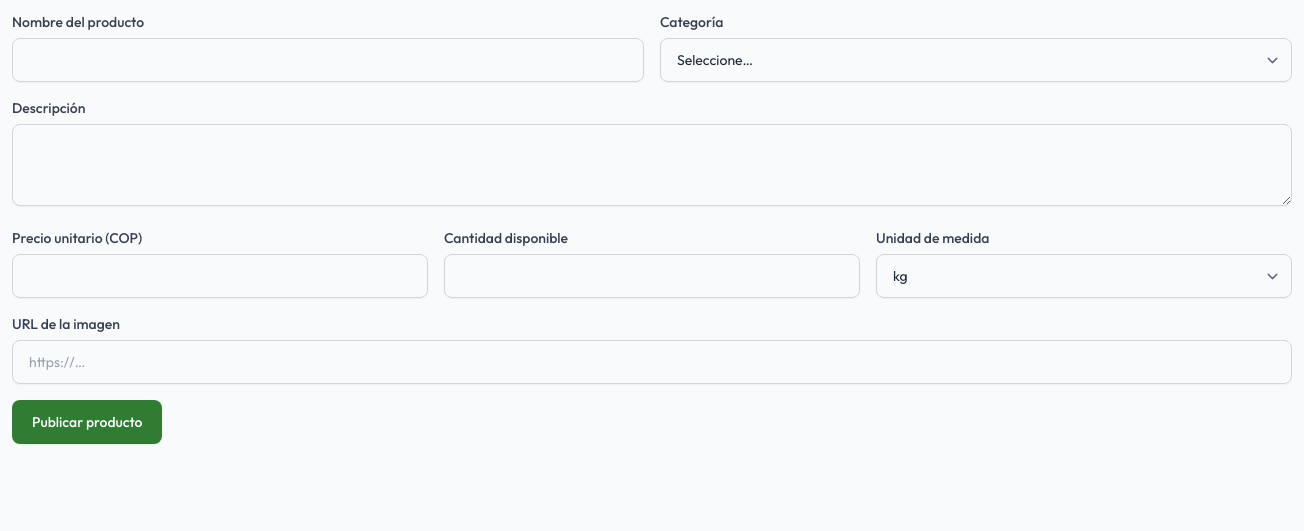
Test: ProductForm › RTL-08 si el servidor rechaza, muestra el mensaje del servidor
The width and height of the screenshot is (1304, 531).
In the field labelled "Nombre del producto": (328, 60) [12,38,644,82], type "Café especial"
Select "Café" in the dropdown labelled "Categoría": (976, 60) [660,38,1292,82]
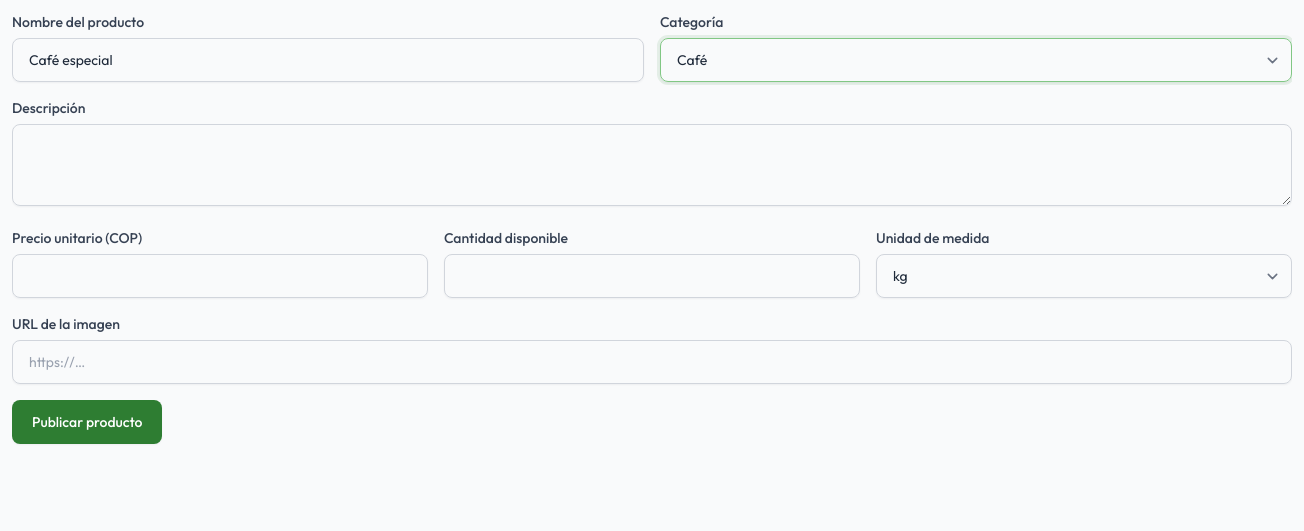
In the text box labelled "Descripción": (652, 165) [12,124,1292,206], type "Café de altura, proceso lavado"
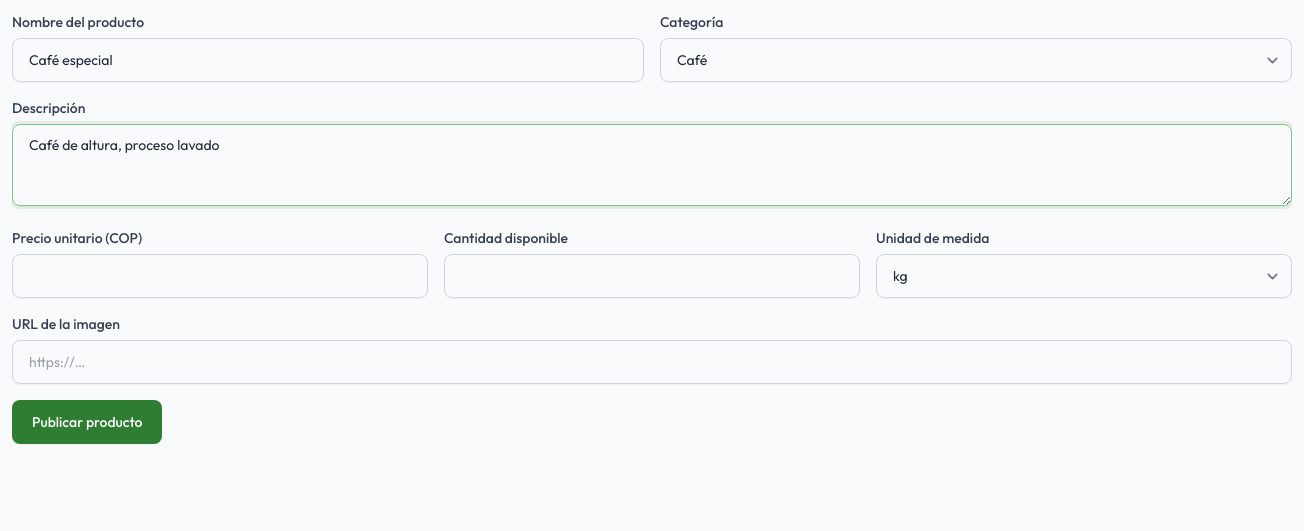
In the field labelled "Precio unitario (COP)": (220, 276) [12,254,428,298], type "18000"
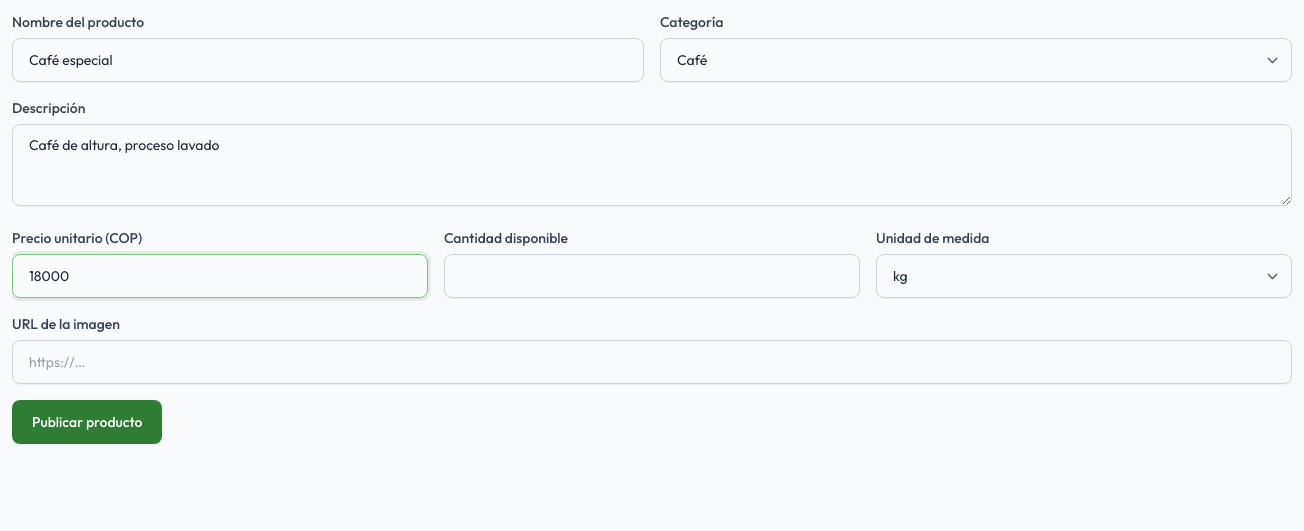
In the field labelled "Cantidad disponible": (652, 276) [444,254,860,298], type "120"
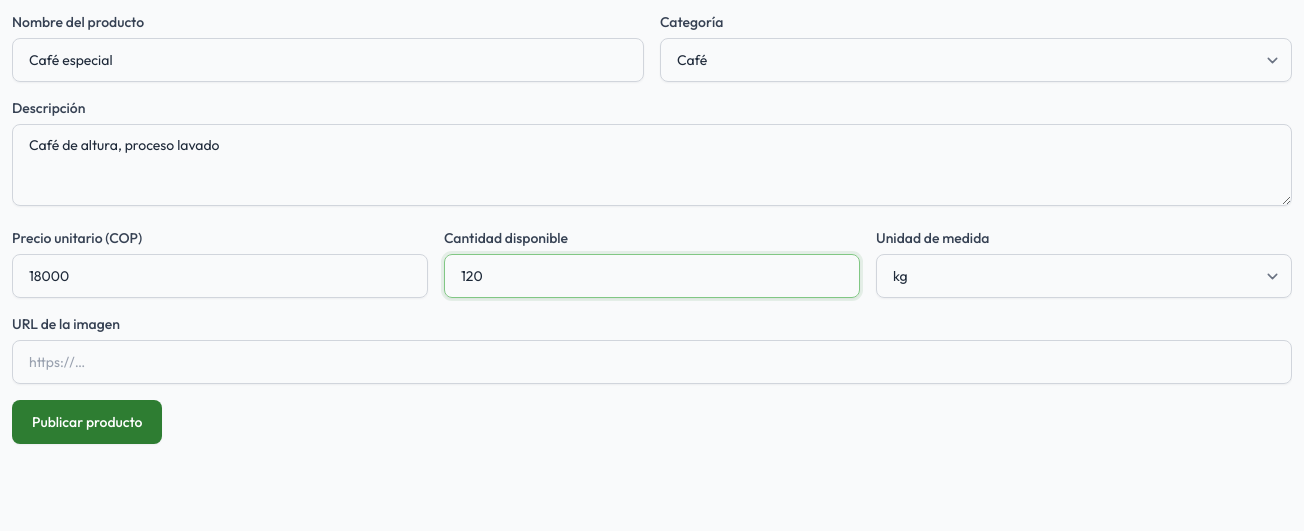
In the field labelled "URL de la imagen": (652, 362) [12,340,1292,384], type "/productos/cafe.svg"
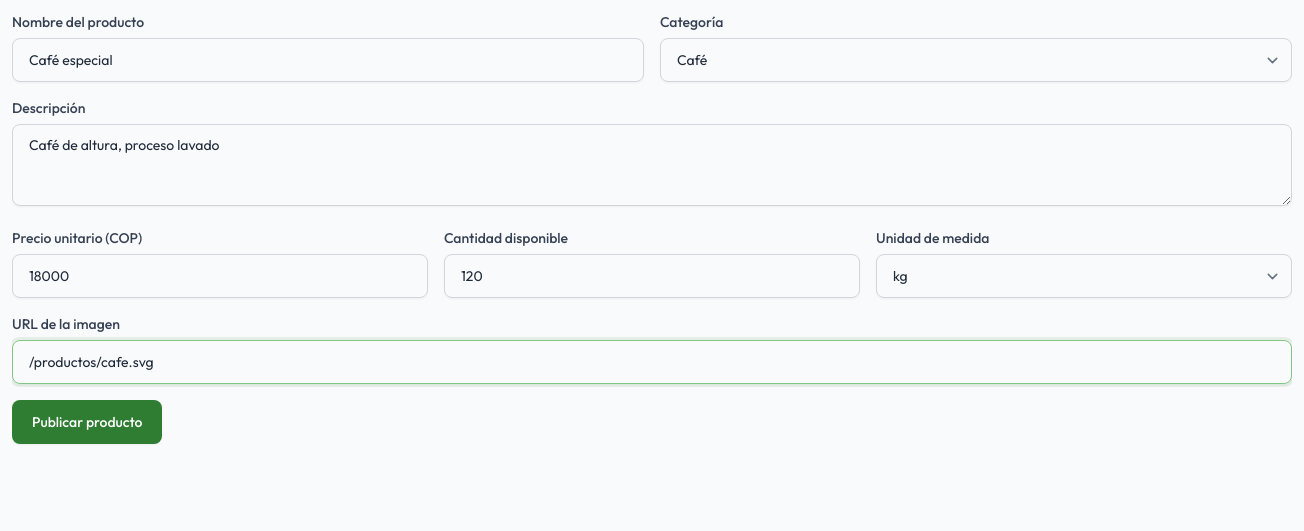
Click the button "Publicar producto": (87, 422) [12,400,162,444]
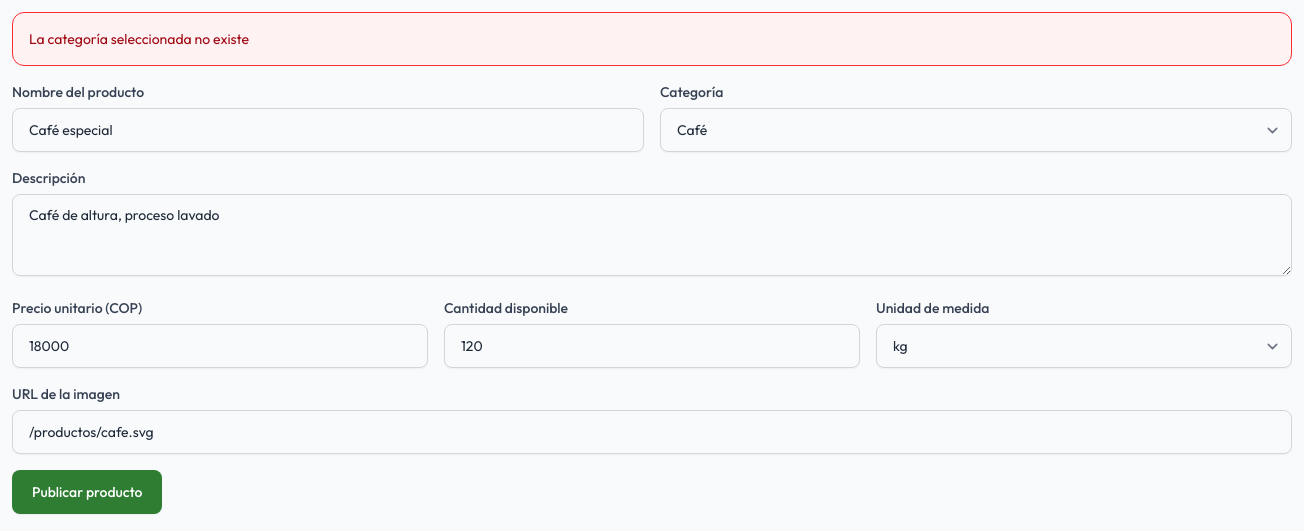
Expected: the message reads "La categoría seleccionada no existe", [29,30,249,48]
